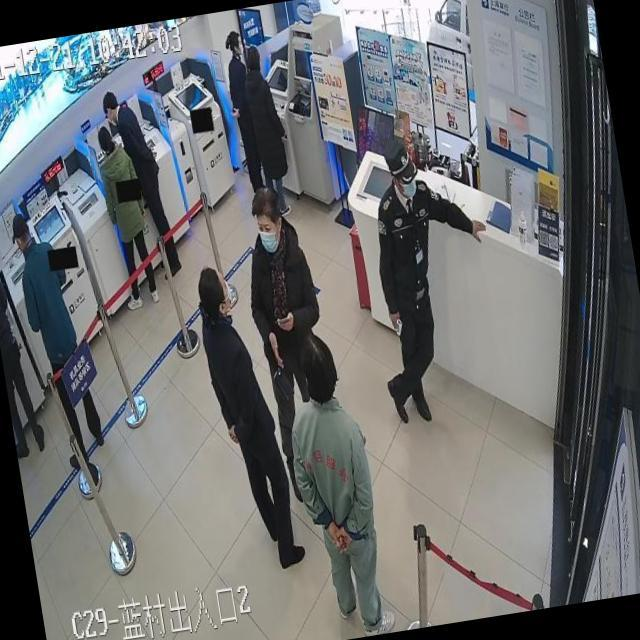person: (351, 125, 516, 428), (233, 181, 352, 518), (273, 327, 395, 640), (190, 256, 306, 573), (8, 202, 114, 492), (8, 203, 112, 491), (100, 84, 184, 286), (93, 120, 163, 314), (92, 121, 162, 313), (240, 44, 300, 217), (0, 242, 47, 458), (220, 30, 267, 195)
